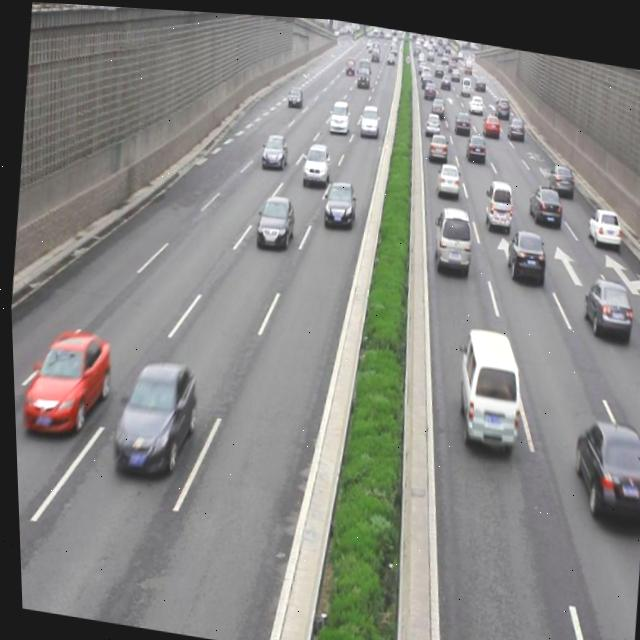car: (104, 349, 198, 482), (16, 321, 112, 443), (563, 405, 640, 522), (576, 266, 632, 336), (250, 186, 295, 251), (501, 218, 545, 280), (582, 194, 622, 241), (320, 174, 355, 225), (525, 176, 562, 222), (298, 135, 332, 184), (258, 126, 288, 167), (432, 152, 460, 193), (544, 152, 573, 191), (426, 124, 447, 155)
truck: (447, 319, 524, 447), (428, 199, 473, 272), (480, 171, 513, 229)
